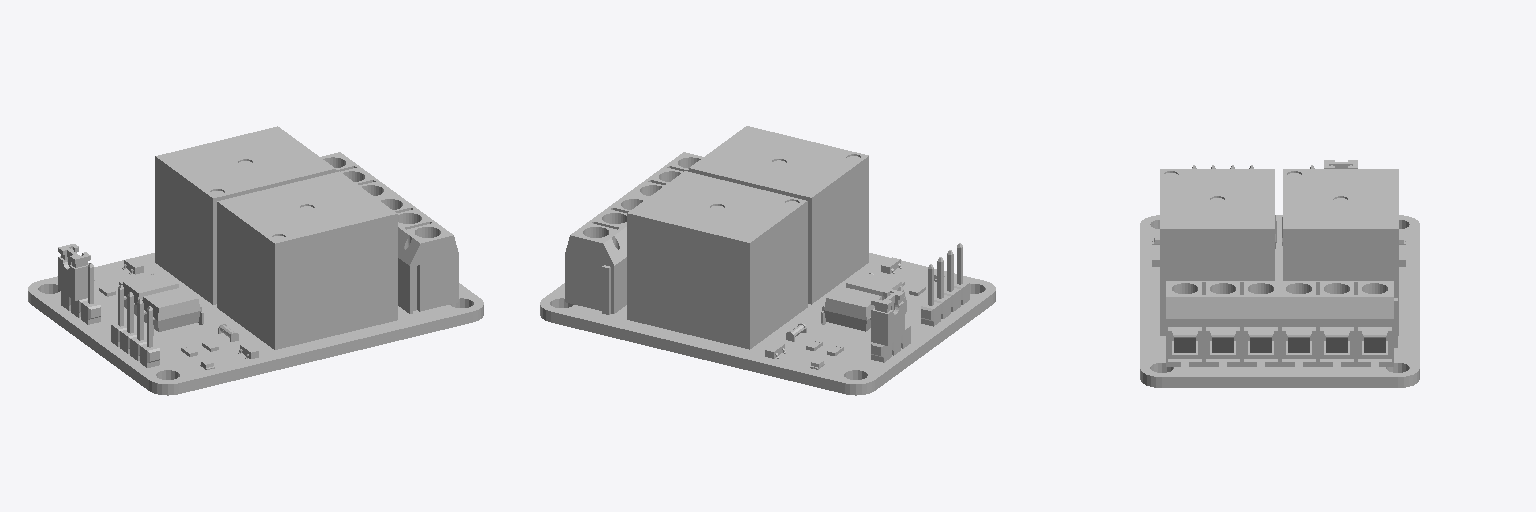
Rendered from 2 Channel - RelayBoard.obj.
3 views of the same model, side by side, from view 1: azimuth 30°, elevation 25°; view 2: azimuth 150°, elevation 25°; view 3: azimuth 270°, elevation 25° (orthographic).
Visible parts, largest first — view 1: Solid1:13, Solid1, Solid1:7, Solid9:1, Solid3:8, Solid1:5, Solid9, Solid3:2; view 2: Solid1:7, Solid1, Solid1:13, Solid9, Solid3:2, Solid1:5, Solid9:1, Solid3:8; view 3: Solid1:13, Solid1:7, Solid1, Solid9, Solid9:1, Solid8, Solid1:2, Solid1:1, Solid7, Solid7:1, Solid8:1.
Part boxes in pixels (x1,y1,x2,y2): Solid1:13: (217,171,397,349); Solid1: (28,253,483,395); Solid1:7: (155,126,335,304); Solid9:1: (377,194,458,313); Solid3:8: (142,287,200,331); Solid1:5: (58,244,90,300); Solid9: (321,152,396,197); Solid3:2: (123,272,178,315); Solid1:7: (627,171,807,349); Solid1: (540,253,995,395); Solid1:13: (689,126,868,304); Solid9: (565,194,646,314); Solid3:2: (824,287,882,331); Solid1:5: (871,288,904,345); Solid9:1: (627,152,702,197); Solid3:8: (846,272,902,299); Solid1:13: (1160,169,1274,335); Solid1:7: (1283,169,1398,335); Solid1: (1140,215,1419,387); Solid9: (1280,281,1397,366); Solid9:1: (1166,281,1279,366); Solid8: (1285,327,1312,352); Solid1:2: (1247,327,1274,352); Solid1:1: (1361,327,1387,352); Solid7: (1323,327,1349,352); Solid7:1: (1210,327,1236,352); Solid8:1: (1172,327,1198,352).
Size of the model in its own units: 1.99 by 0.76 by 1.45.